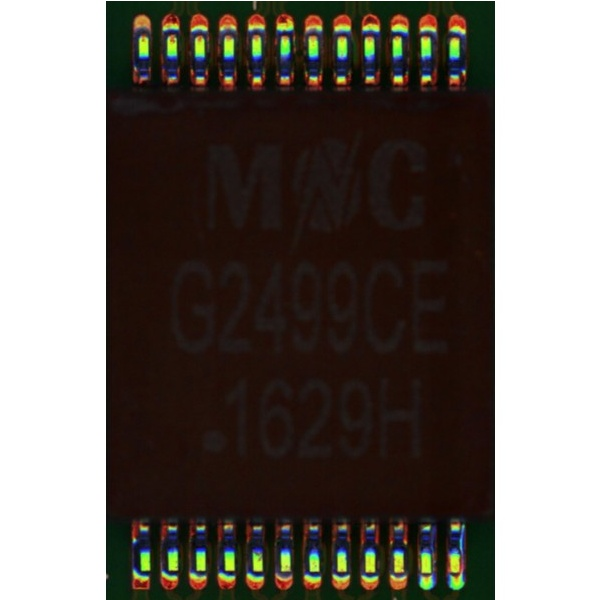Bad_podu: (451, 566, 459, 580)
Bad_qiaojiao: (459, 522, 465, 572)
